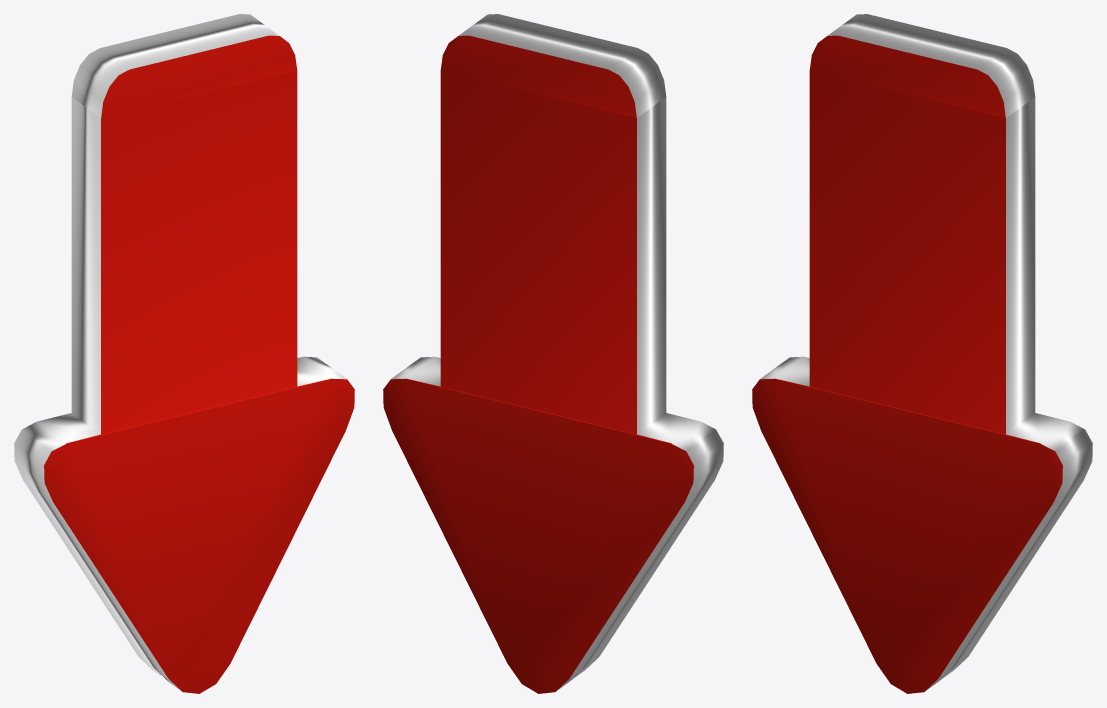
File: Arrow.fbx
3 renders of one model, left to right at view 1: azimuth 30°, elevation 25°; view 2: azimuth 150°, elevation 25°; view 3: azimuth 330°, elevation 25°, orthographic.
Parts seen in each view (by area): view 1: Arrow; view 2: Arrow; view 3: Arrow.
Boxes of the visible parts, box(x1,y1,x2,y2) form: Arrow: box(14, 14, 354, 693); Arrow: box(383, 14, 723, 693); Arrow: box(752, 14, 1092, 693).
Size of the model in its own units: 54.28 by 107 by 9.08.
